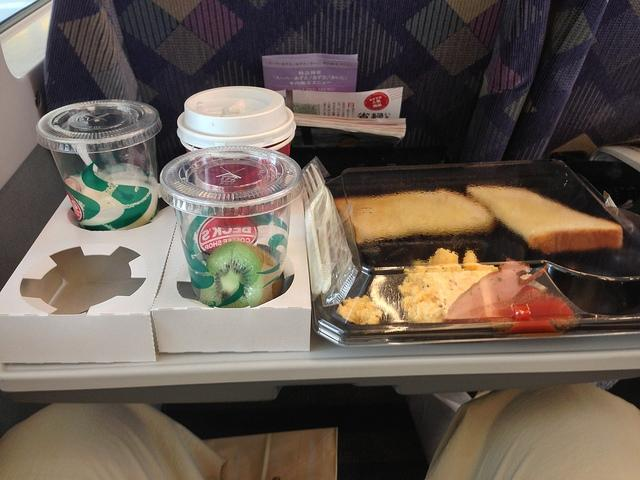kiwi: (197, 241, 287, 308)
